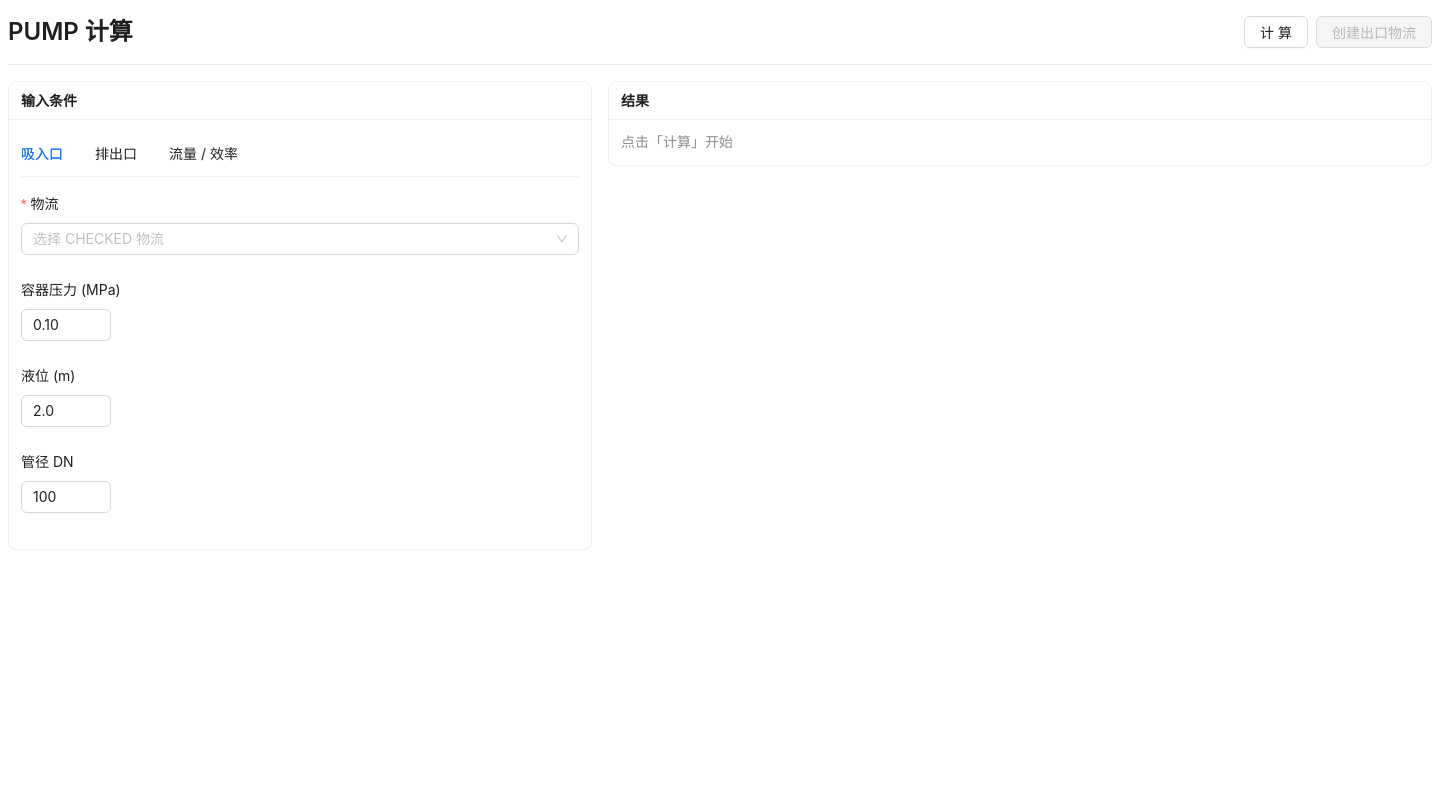
Scenario: PumpComputePage — 计算 (P45-3-7) › 未选物流 → 点计算 → 显示错误
What coordinates should you click on to do the following:
click the button with test id "pump-calculate"
I would click on:
 (1276, 32)
Its box is [1244,16,1308,48].
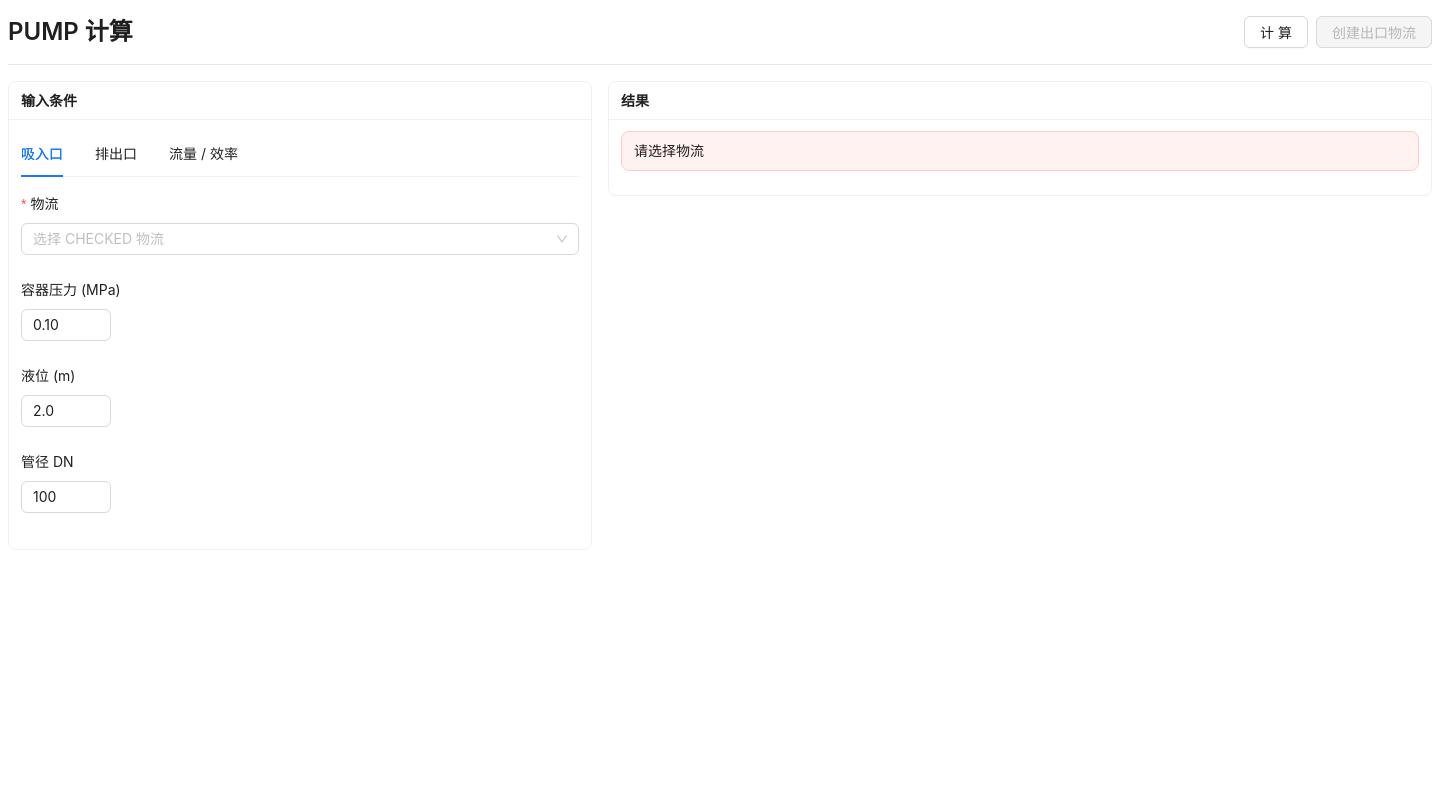
Now the message "请选择物流" is shown, box [621,131,1419,171]
